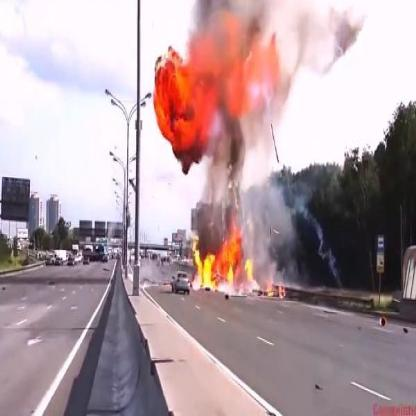fire: (151, 11, 247, 161), (188, 214, 286, 304)
